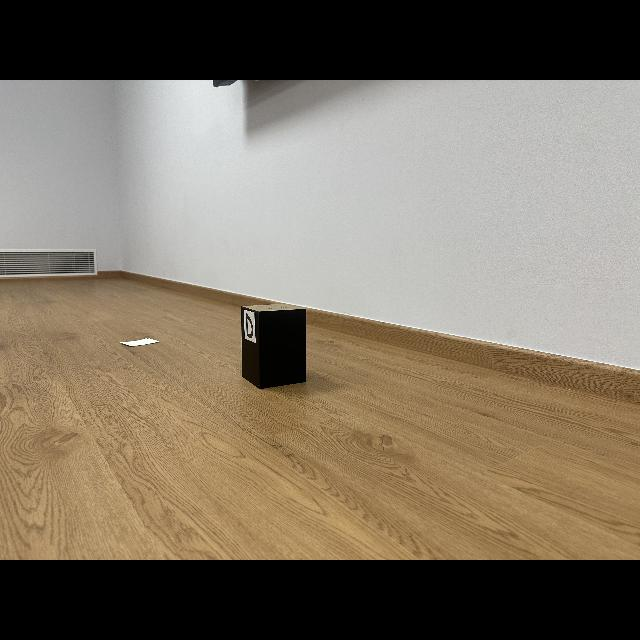D: (246, 314, 253, 338)
